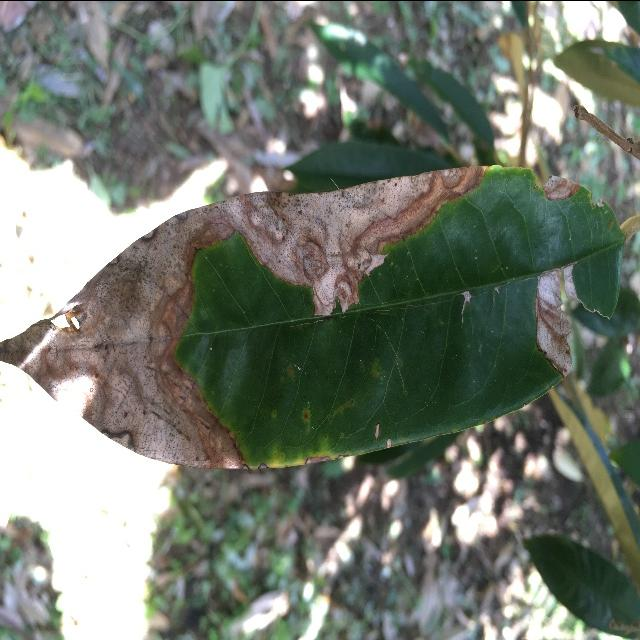Leaf Blight: (0, 157, 635, 478)
